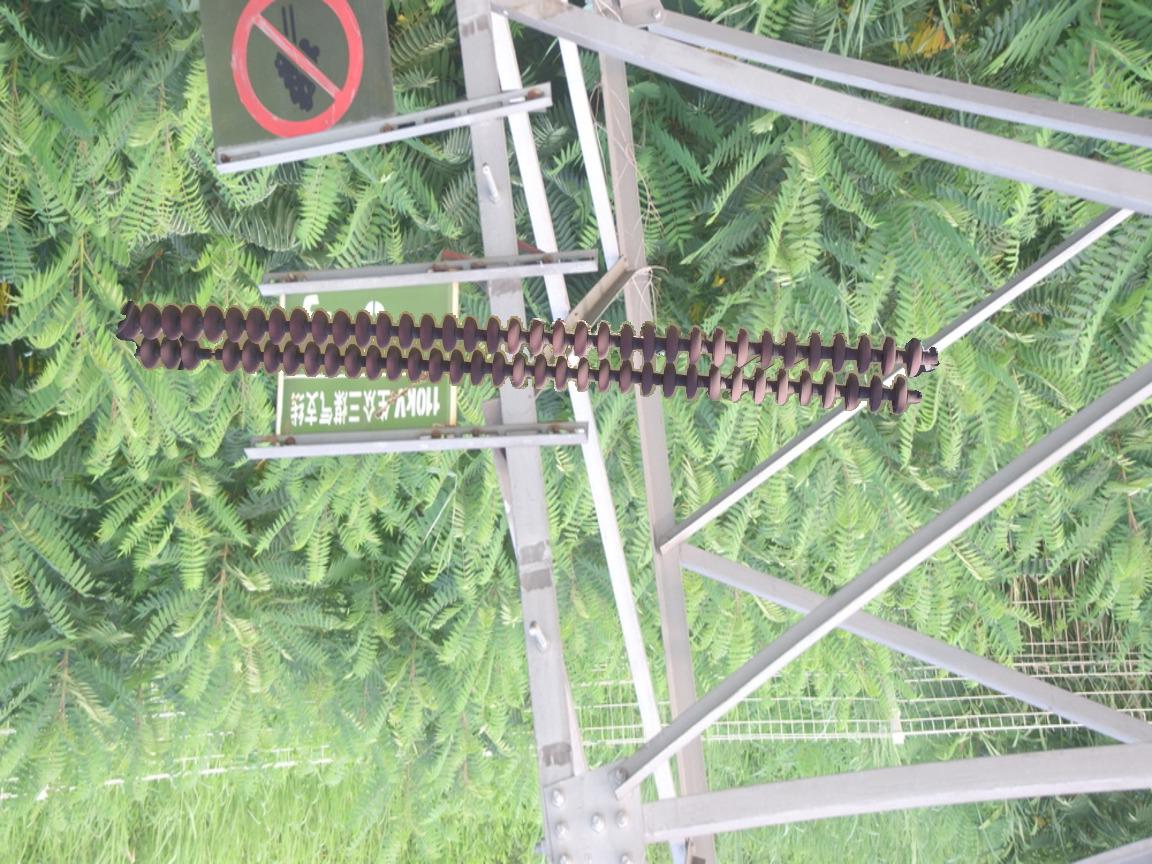insulator: (111, 296, 929, 422)
insulator_stringdrop: (179, 337, 243, 376)
